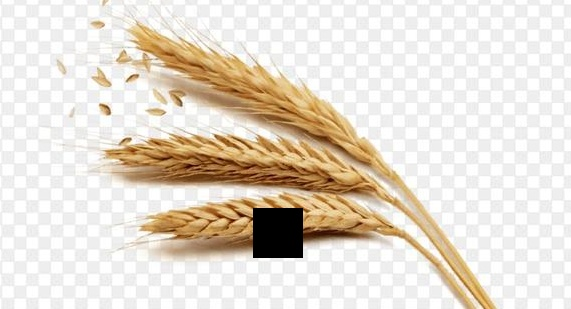wheat: (120, 21, 385, 167), (77, 123, 394, 197), (115, 191, 402, 238)
